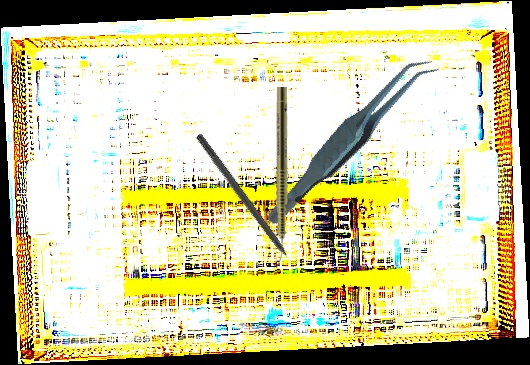Handpiece: (274, 87, 288, 268)
Hook Surgical: (193, 132, 302, 276)
Tissue Forceps: (238, 51, 462, 228)
